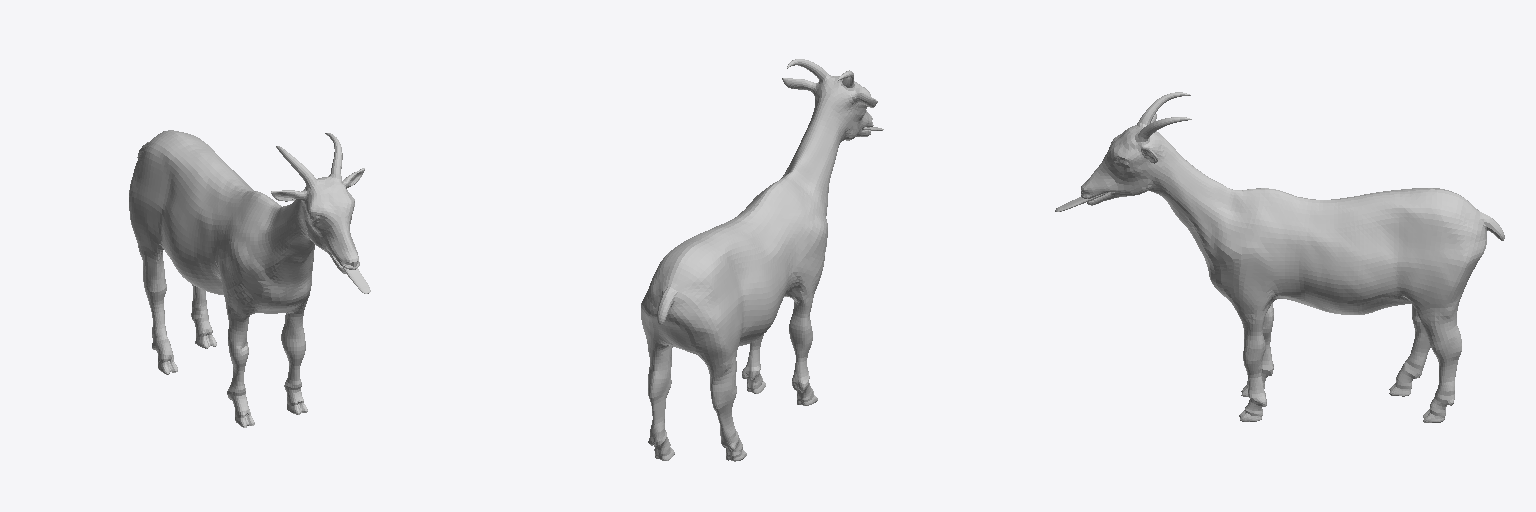
Rendered from GoatGL.obj.
3 renders of one model, left to right at view 1: azimuth 30°, elevation 25°; view 2: azimuth 150°, elevation 25°; view 3: azimuth 270°, elevation 25°, orthographic.
Visible parts, largest first — view 1: default; view 2: default; view 3: default.
Boxes of the visible parts, <box> form: default: <box>129,130,370,427</box>; default: <box>641,59,883,461</box>; default: <box>1055,92,1504,422</box>.
Size of the model in its own units: 0.6135 by 1.88 by 2.53.